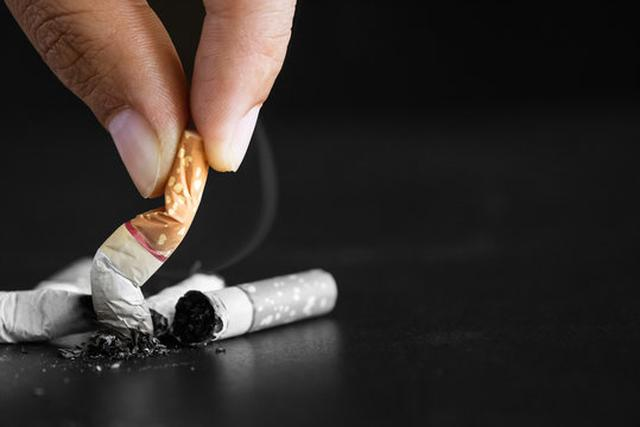Cigarette: (88, 128, 210, 339), (170, 266, 338, 346)
